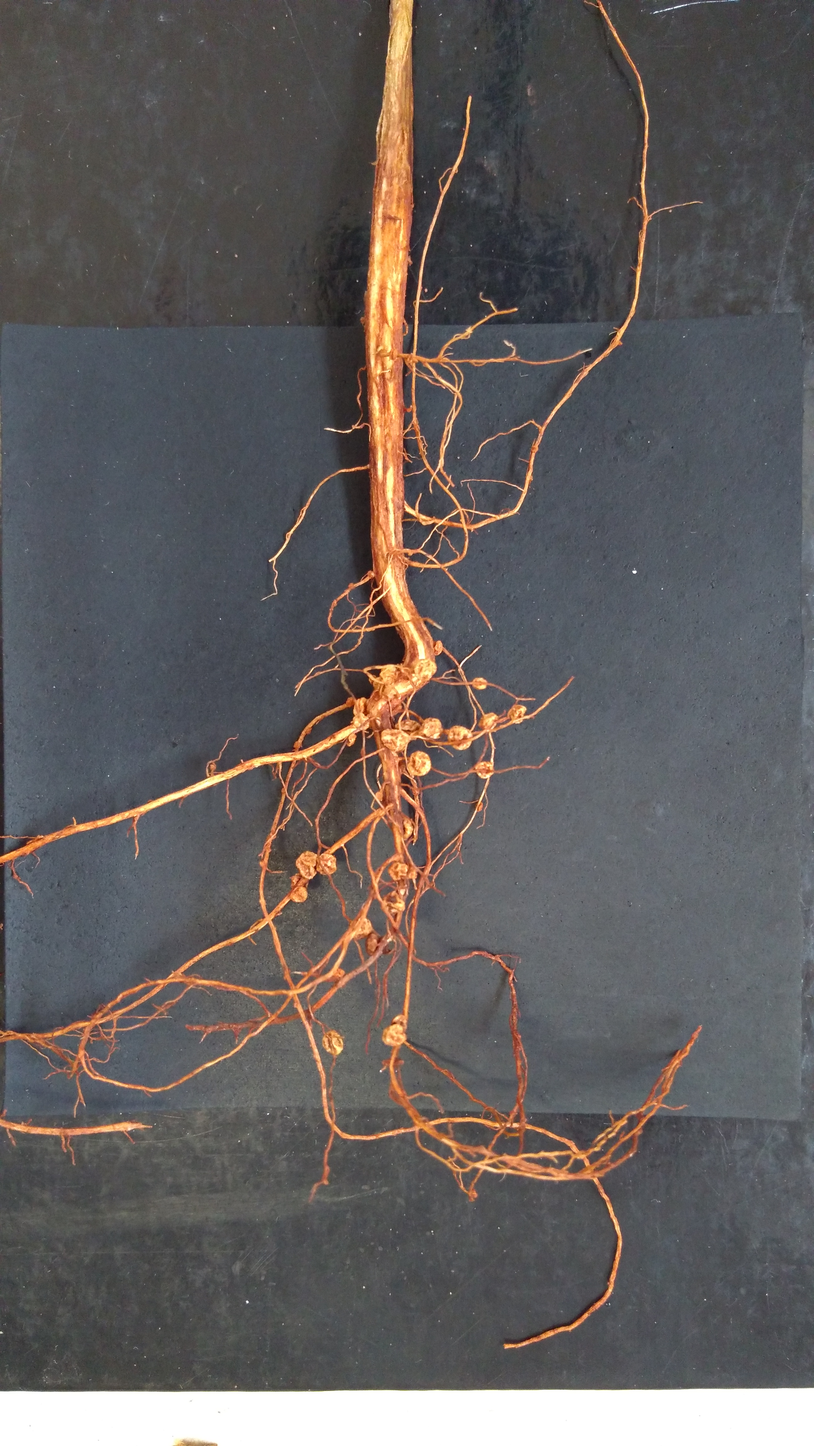nodule: (293, 849, 320, 881), (406, 748, 433, 779), (380, 727, 411, 754), (446, 724, 474, 752), (379, 1023, 408, 1049), (416, 715, 444, 741), (320, 1028, 345, 1057), (411, 658, 439, 682), (382, 890, 408, 915), (316, 852, 340, 878), (392, 718, 423, 736), (350, 917, 374, 940), (386, 861, 410, 882), (376, 663, 398, 685), (506, 702, 527, 725), (474, 759, 496, 780), (364, 932, 381, 957), (477, 712, 498, 732), (289, 885, 309, 905), (401, 818, 415, 844), (389, 1014, 409, 1032), (351, 696, 368, 716), (399, 866, 418, 882), (470, 676, 489, 691), (433, 638, 446, 656), (346, 733, 358, 748), (332, 967, 346, 977), (474, 802, 484, 813)
